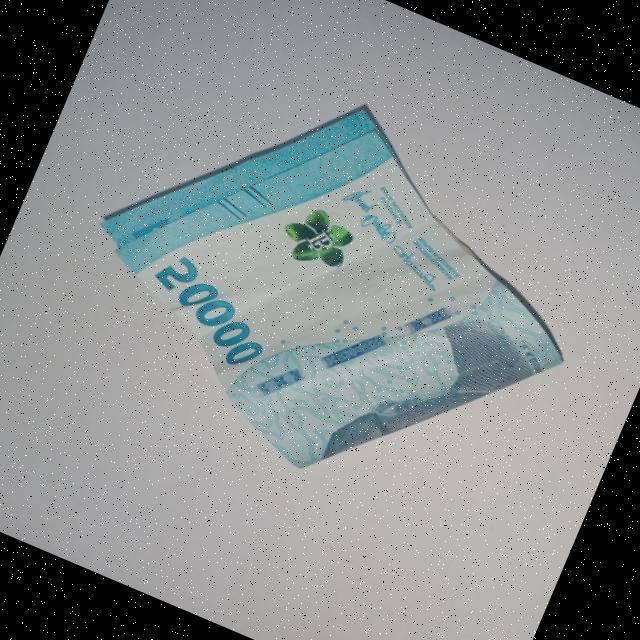50K: (31, 16, 635, 552)
